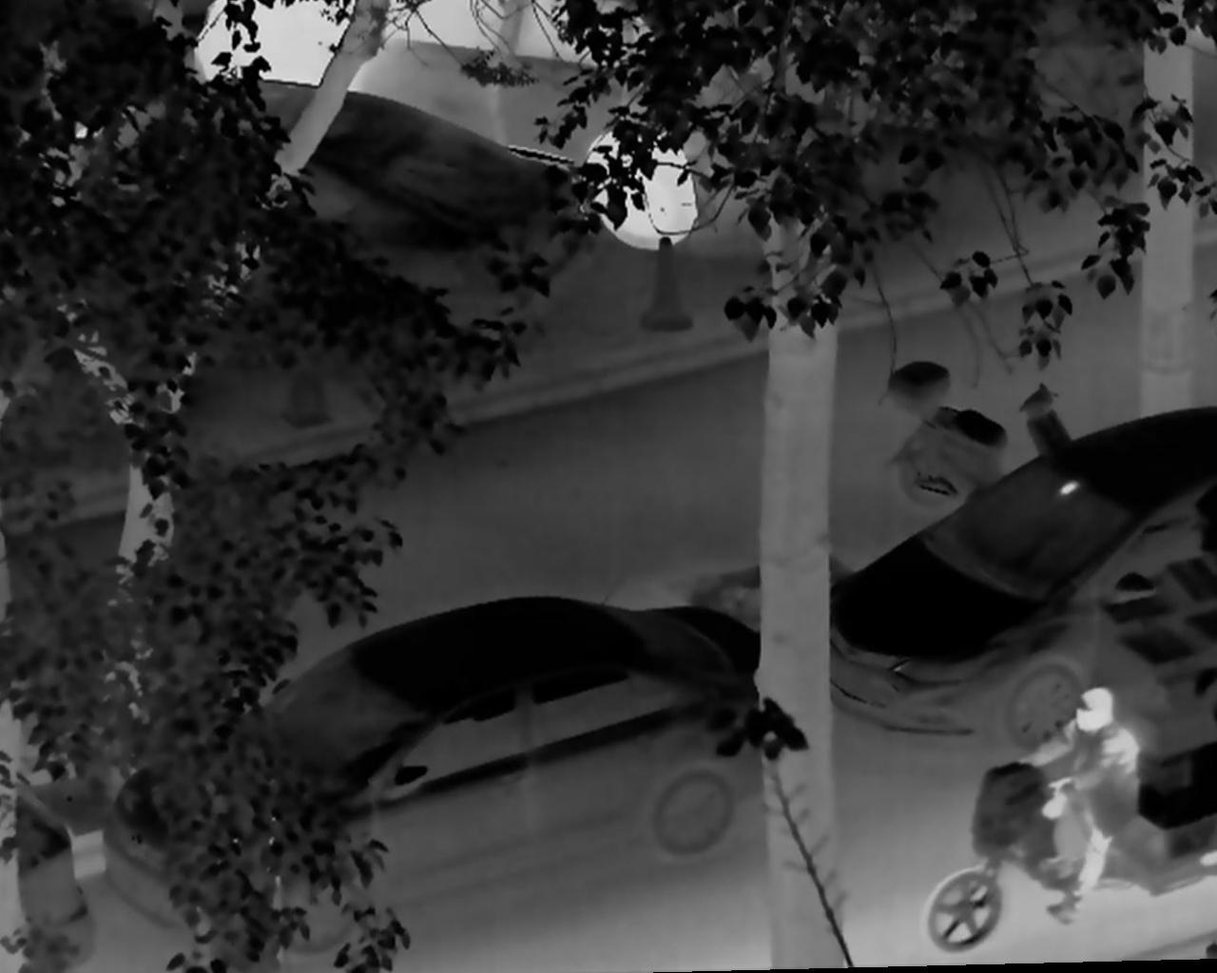person: (1018, 678, 1140, 925)
